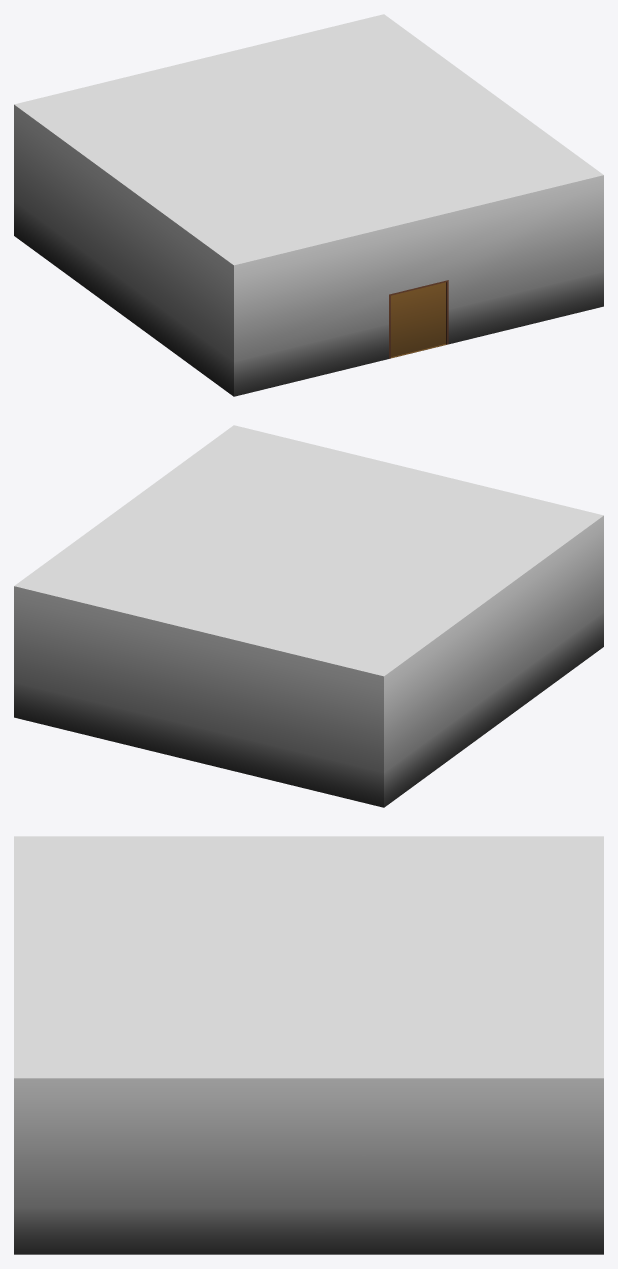
The model's file is Room.fbx.
3 views of the same model, one above another, from view 1: azimuth 30°, elevation 25°; view 2: azimuth 150°, elevation 25°; view 3: azimuth 270°, elevation 25° (orthographic). The views are drawn at different scales.
Parts seen in each view (by area): view 1: Cube; view 2: Cube; view 3: Cube.
Boxes of the visible parts, x1,y1,x2,y2 form: Cube: [14, 14, 603, 396]; Cube: [14, 425, 603, 807]; Cube: [14, 836, 603, 1254].
Bounding box in the file's own units: 626 × 212 × 644.
